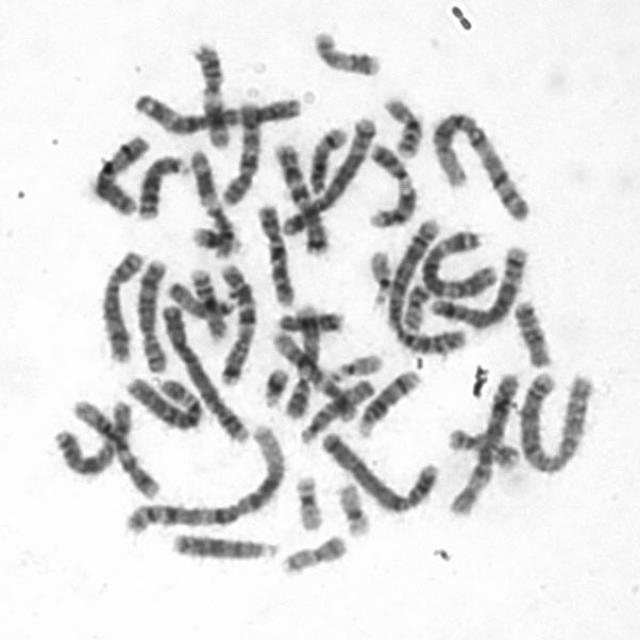A1: (120, 418, 288, 537), (424, 103, 535, 224)
A2: (383, 213, 473, 358), (512, 362, 600, 477)
A3: (129, 85, 306, 136), (416, 224, 500, 300)
B4: (156, 296, 253, 446), (316, 426, 442, 516)
B5: (277, 111, 378, 240), (425, 238, 532, 332)
C10: (218, 96, 265, 207), (252, 198, 298, 310)
C11: (185, 144, 239, 258), (189, 37, 234, 150)
C12: (68, 394, 164, 501), (267, 326, 361, 424)
C6: (445, 366, 524, 518), (122, 370, 208, 433)
C7: (269, 137, 332, 257), (215, 258, 259, 387)
C8: (96, 243, 148, 365), (132, 252, 170, 374)
C9: (280, 299, 325, 423), (361, 138, 419, 230)
D13: (168, 527, 282, 563), (134, 148, 190, 221)
D14: (352, 364, 423, 438), (305, 120, 351, 196)
D15: (296, 372, 380, 446), (162, 275, 239, 322)
E16: (184, 262, 232, 342), (378, 90, 428, 158)
E17: (308, 24, 385, 78), (443, 421, 523, 472)
E18: (509, 294, 556, 368), (273, 306, 346, 334)
F19: (333, 476, 374, 539), (290, 469, 326, 532)
F20: (276, 529, 351, 577), (398, 278, 432, 332)
G21: (185, 220, 246, 256), (258, 361, 292, 409)
G22: (364, 242, 396, 307), (325, 348, 385, 382)
X: (50, 394, 135, 477), (86, 130, 151, 216)
